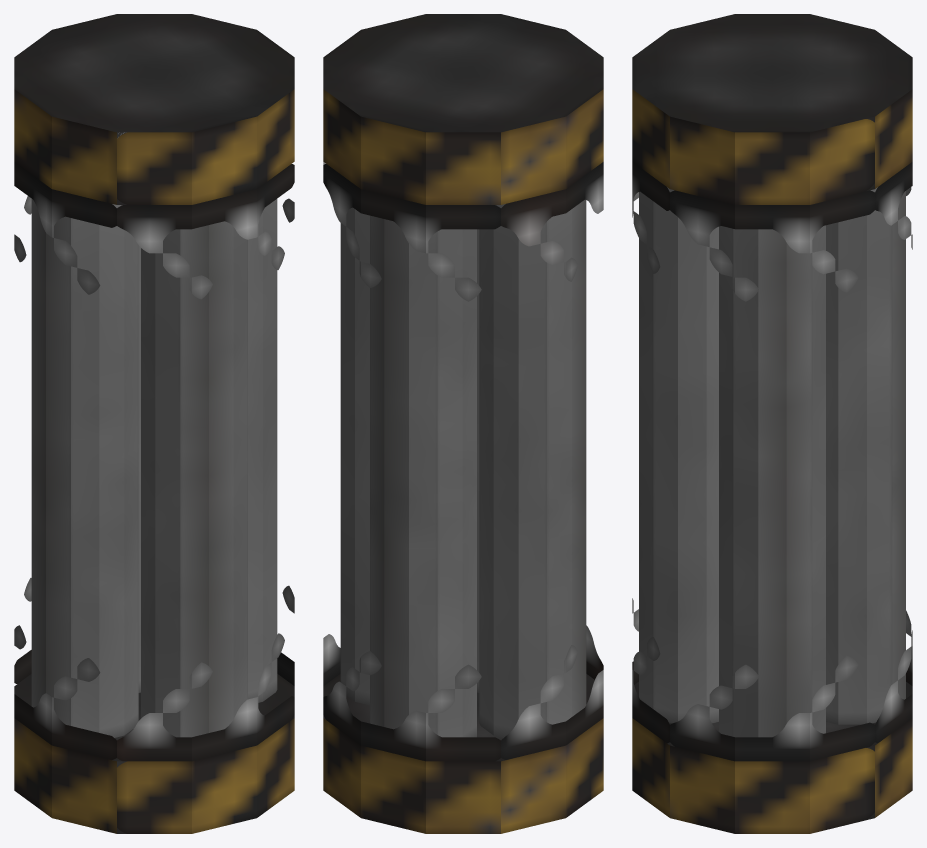
Rendered from centrifuge_cylinder.obj.
The picture shows the model from 3 angles, left to right: view 1: azimuth 30°, elevation 25°; view 2: azimuth 150°, elevation 25°; view 3: azimuth 270°, elevation 25°; orthographic projection.
Visible parts, largest first — view 1: cylinder; view 2: cylinder; view 3: cylinder.
Part boxes in pixels (x1,y1,x2,y2): cylinder: (14,14,294,833); cylinder: (323,14,603,833); cylinder: (632,14,912,833).
Size of the model in its own units: 0.6562 by 1.81 by 0.6562.
